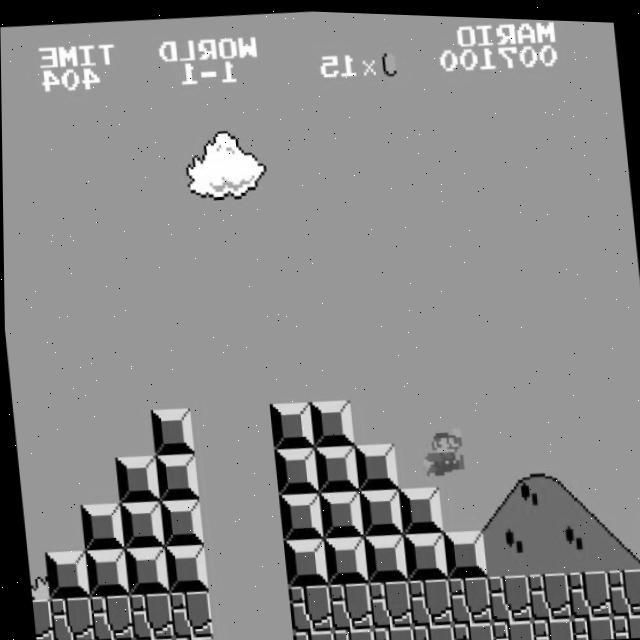11- little_mario: (418, 420, 466, 473)
17- undestructible_block: (445, 571, 491, 622), (564, 565, 610, 615), (524, 567, 570, 617), (485, 569, 531, 619), (405, 574, 451, 624), (166, 588, 212, 638), (126, 590, 172, 640), (326, 578, 371, 629), (366, 576, 411, 626), (286, 581, 331, 631), (87, 592, 132, 640), (47, 594, 92, 640), (604, 562, 640, 613), (569, 610, 612, 637), (529, 612, 572, 639), (489, 615, 533, 640), (450, 617, 493, 640), (30, 597, 52, 640), (410, 619, 453, 640), (609, 608, 640, 635), (370, 622, 413, 640), (330, 623, 373, 640), (290, 626, 333, 640), (170, 633, 213, 640), (130, 636, 173, 640)
9- hard_block: (396, 482, 442, 533), (361, 530, 407, 581), (157, 496, 203, 547), (440, 526, 486, 576), (312, 441, 358, 491), (321, 533, 367, 583), (281, 535, 327, 585), (148, 405, 194, 455), (117, 499, 163, 549), (82, 547, 128, 597), (42, 549, 88, 599), (277, 489, 322, 540), (122, 544, 167, 595), (352, 439, 398, 488), (272, 444, 318, 493), (401, 528, 446, 578), (357, 485, 402, 535), (308, 396, 353, 446), (317, 487, 362, 537), (268, 398, 313, 448), (162, 542, 207, 592), (78, 501, 123, 551), (153, 451, 198, 500), (113, 453, 158, 502), (640, 514, 640, 563)
